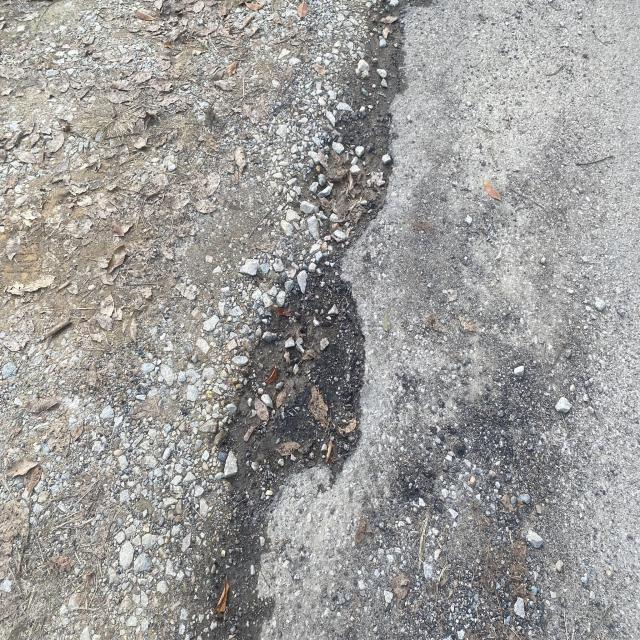pothole: (239, 59, 459, 548)
